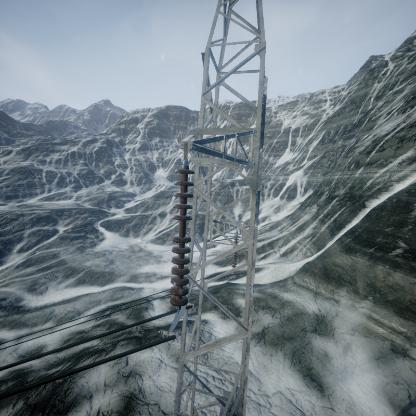insulator: (168, 160, 196, 306)
